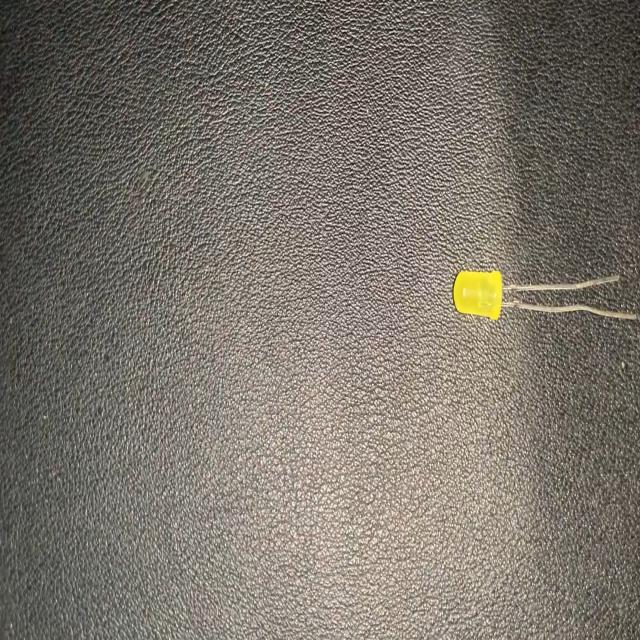LED: (452, 263, 638, 325)
